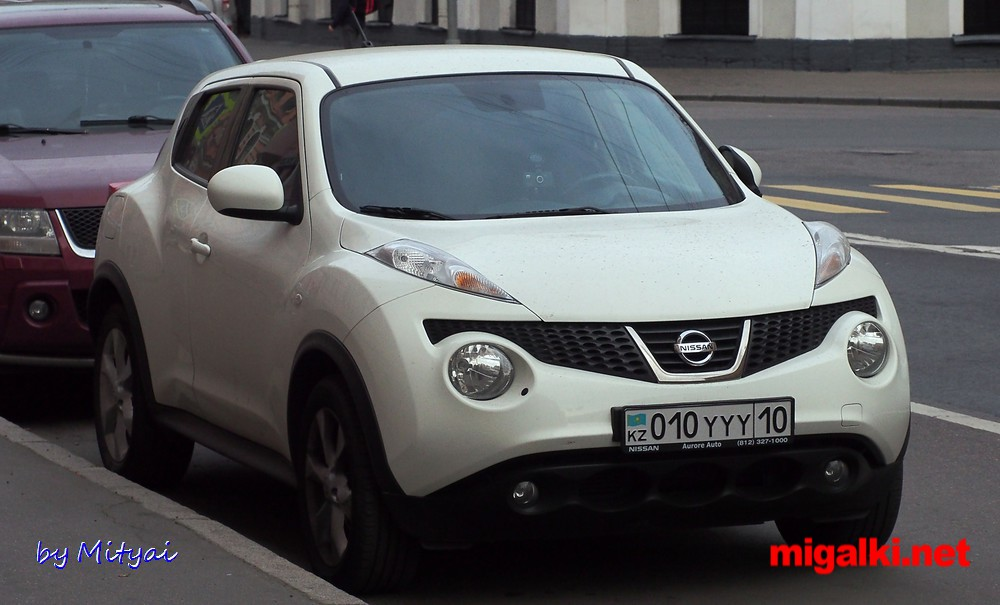license_plate: (625, 404, 796, 445)
